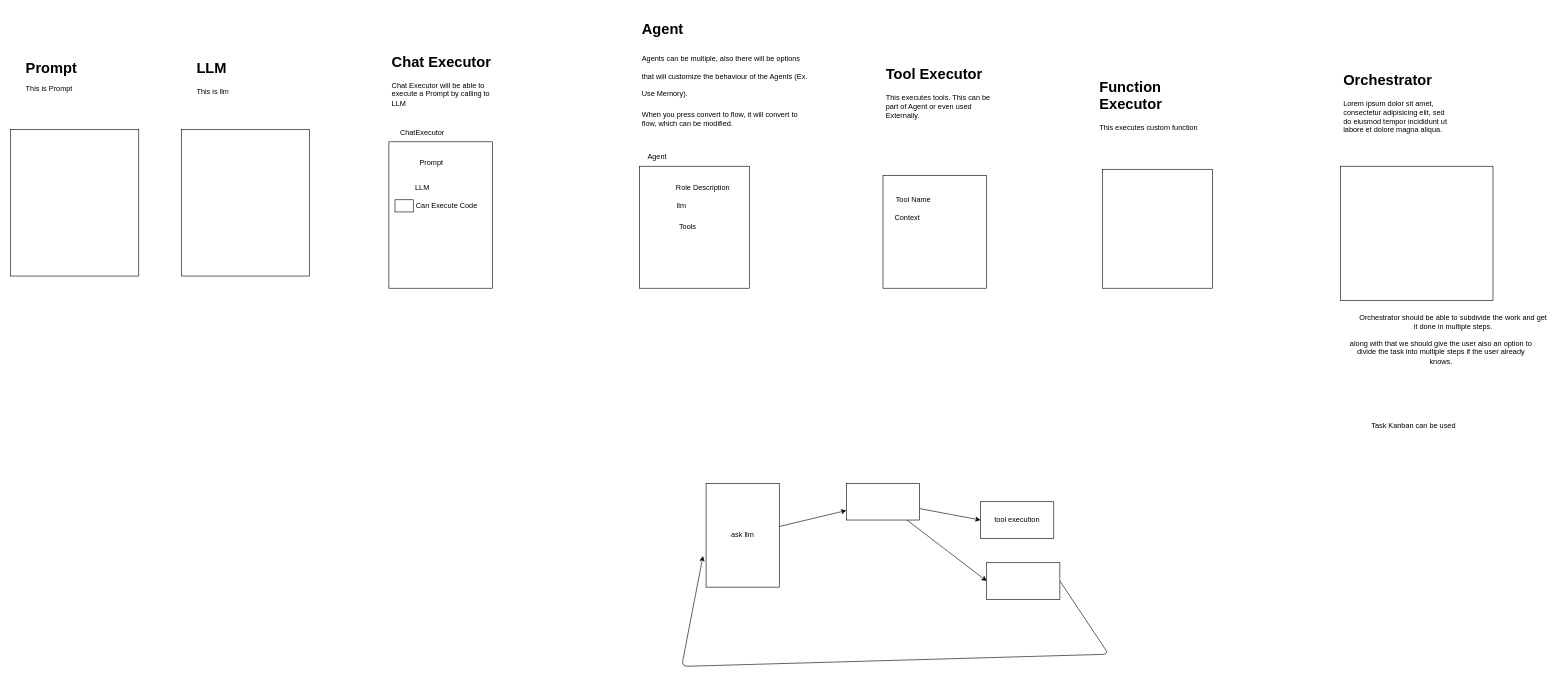
This 1559x682 diagram has some shape labels left out. Each missing label, with the box of its shape:
decide: (846, 483, 920, 520)
tool2 execution: (986, 562, 1060, 599)
